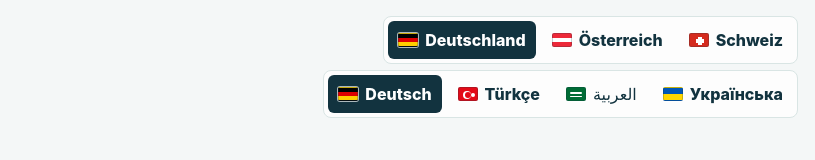
Test case: Header country switcher › switches between Germany, Austria and Switzerland and scopes extra languages to Switzerland
Expected: the icon with class "flag-icon-country-de" is shown, [398, 33, 418, 47]
Expected: the icon with class "flag-icon-country-at" is shown, [552, 33, 572, 47]
Step 1. Click the button "Österreich" → [607, 40], box [542, 21, 673, 59]
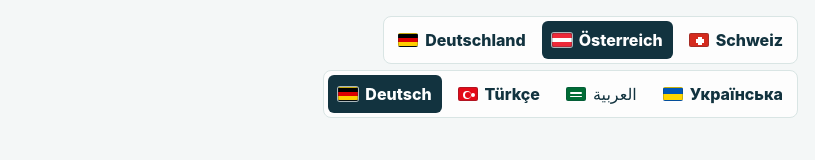
Result: the button "Österreich" is pressed at [542, 21, 673, 59]
Step 2. Click the button "Schweiz" → [736, 40], box [679, 21, 793, 59]
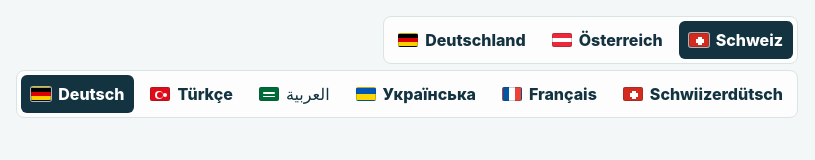
Result: the button "Français" is shown
Result: the button "Schwiizerdütsch" is shown at [613, 75, 793, 113]
Step 3. Click the button "Français" → [549, 94], box [492, 75, 607, 113]
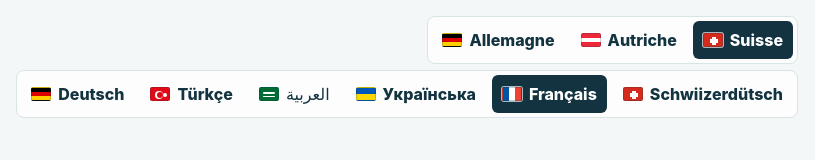
Step 4. Click the button named "Deutschland" → [498, 40], box [432, 21, 565, 59]
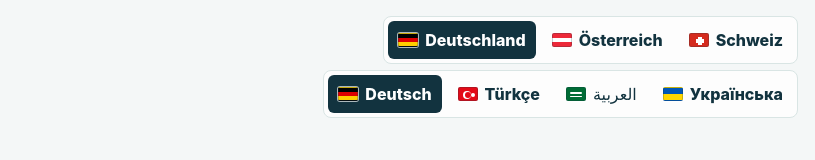
Result: the button "Français" is gone
